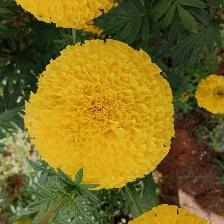marigold: (24, 36, 178, 192)
